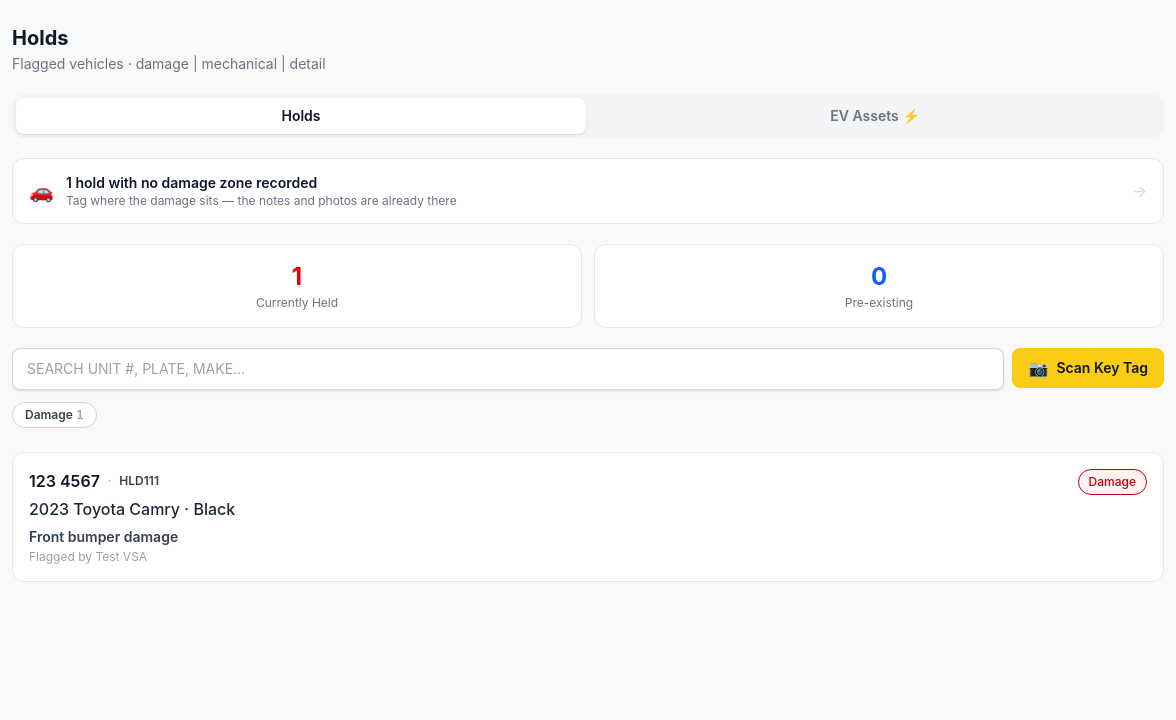
HoldsView — search › filters by unit number
The width and height of the screenshot is (1176, 720).
In the field with placeholder "Search unit #, plate, make…": (508, 369) x1=12 y1=348 x2=1004 y2=390, type "7654321"
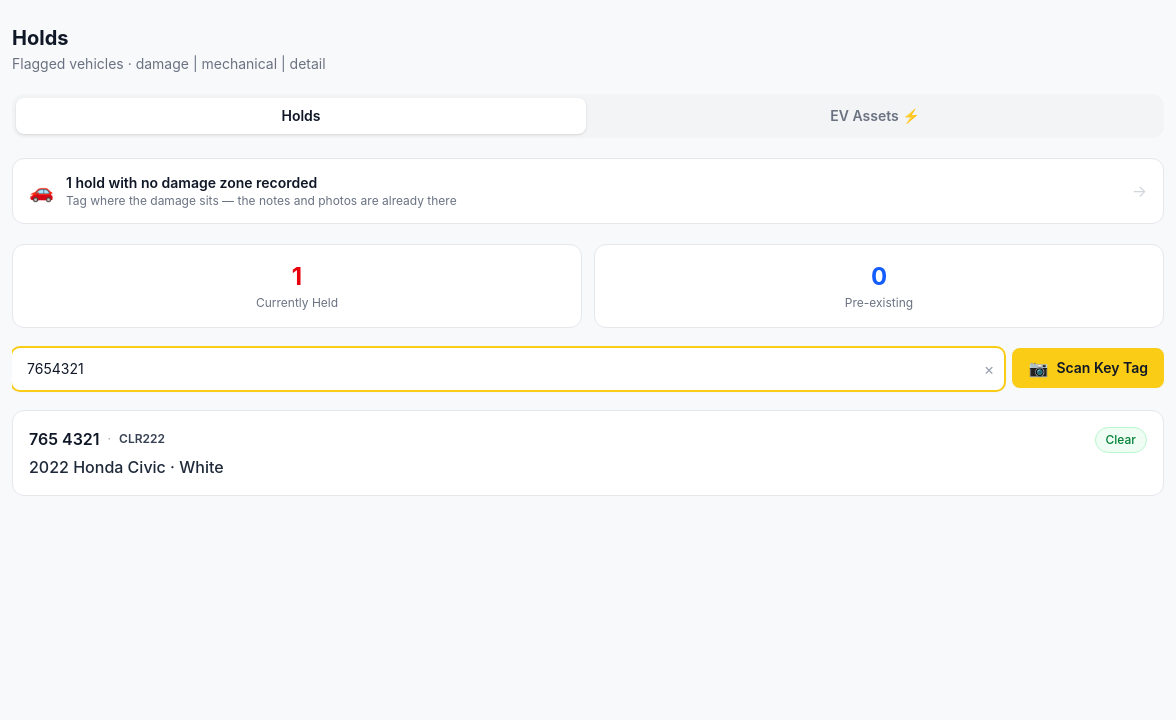
Now the text "765 4321" is shown, box x1=29 y1=427 x2=100 y2=451
